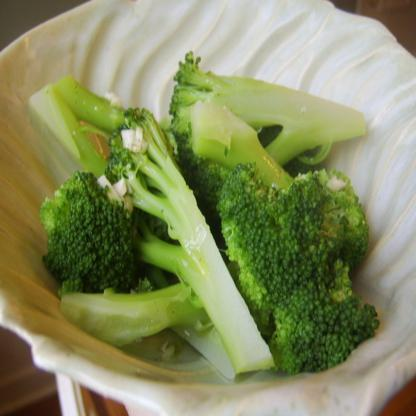broccoli: (22, 48, 382, 387)
